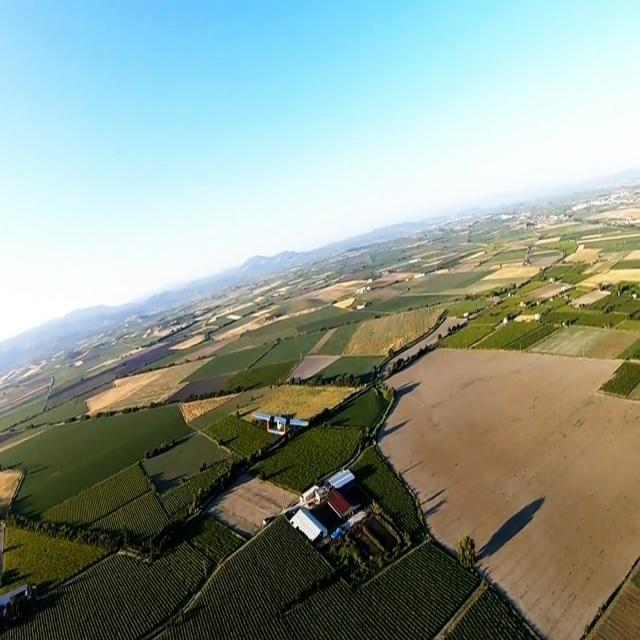iha: (251, 410, 311, 436)
